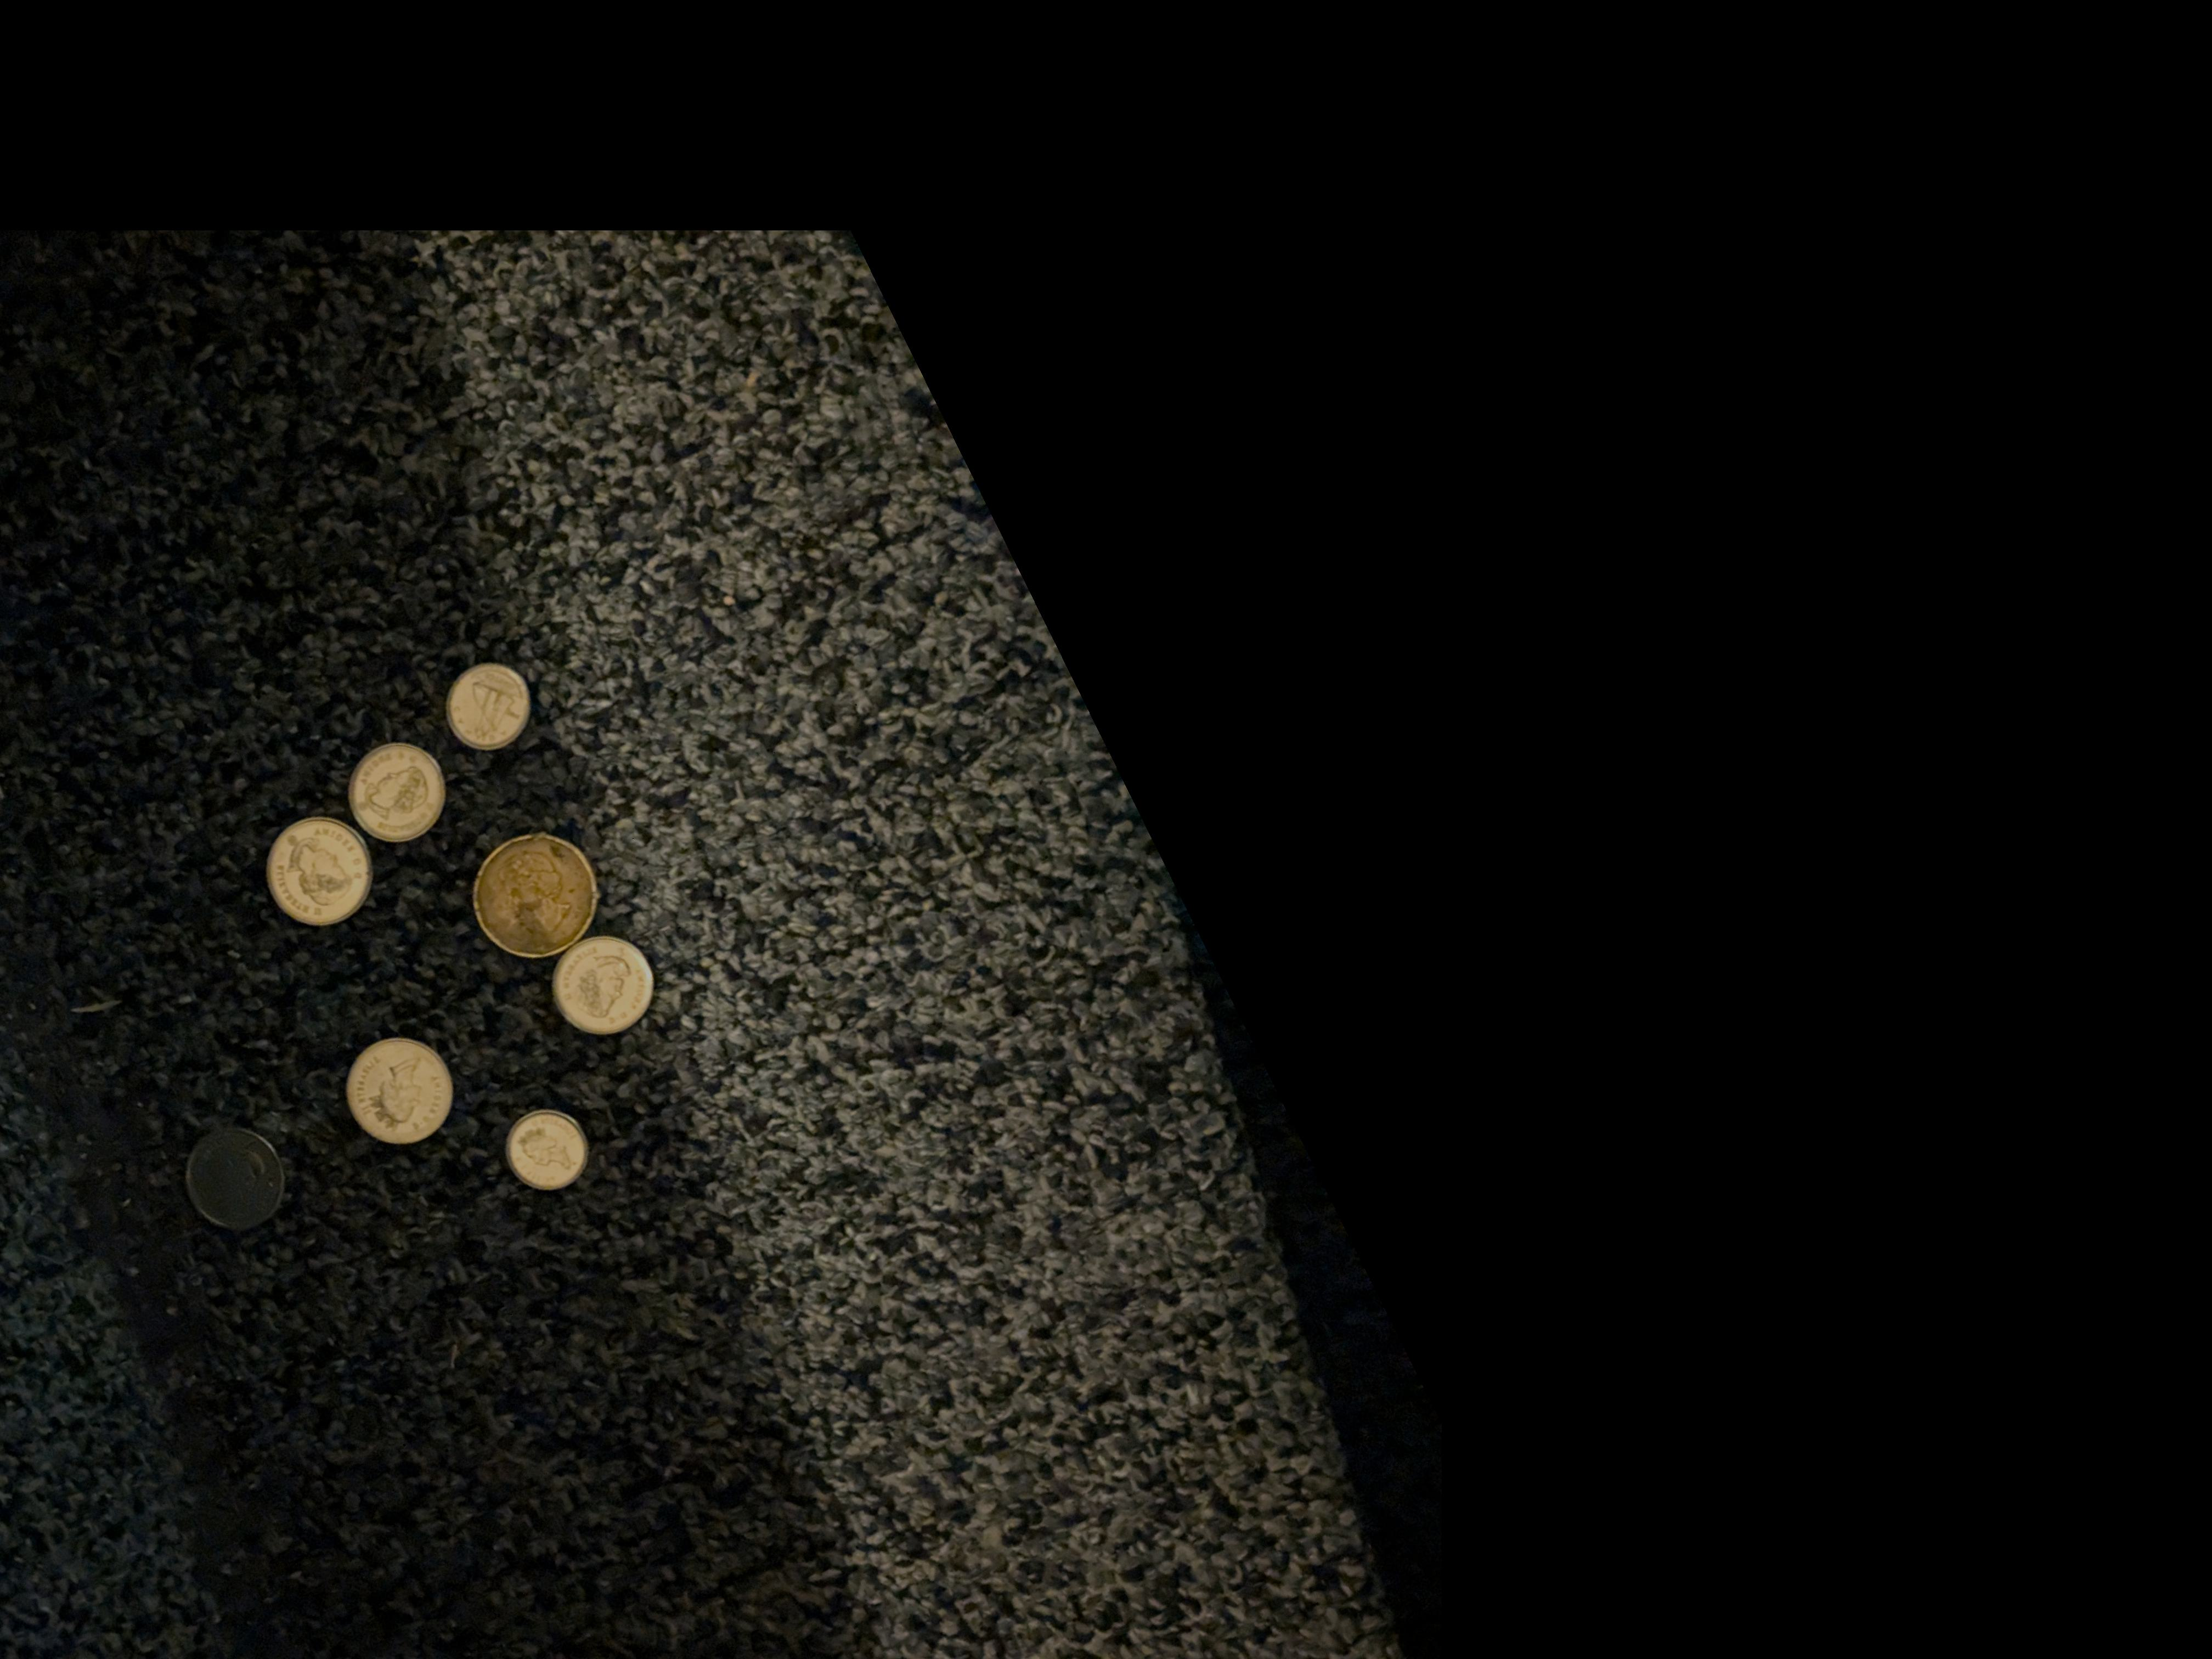dime: (444, 659, 535, 751), (505, 1108, 592, 1197)
loonie: (472, 835, 601, 960)
nickel: (549, 932, 655, 1039), (183, 1126, 291, 1230), (350, 742, 448, 838)
quarter: (341, 1032, 456, 1148), (266, 807, 376, 925)
